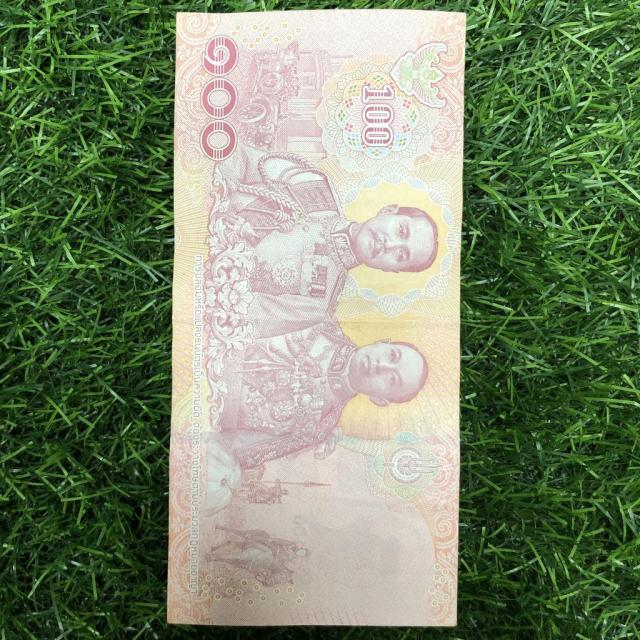THAI100: (168, 11, 464, 624)
